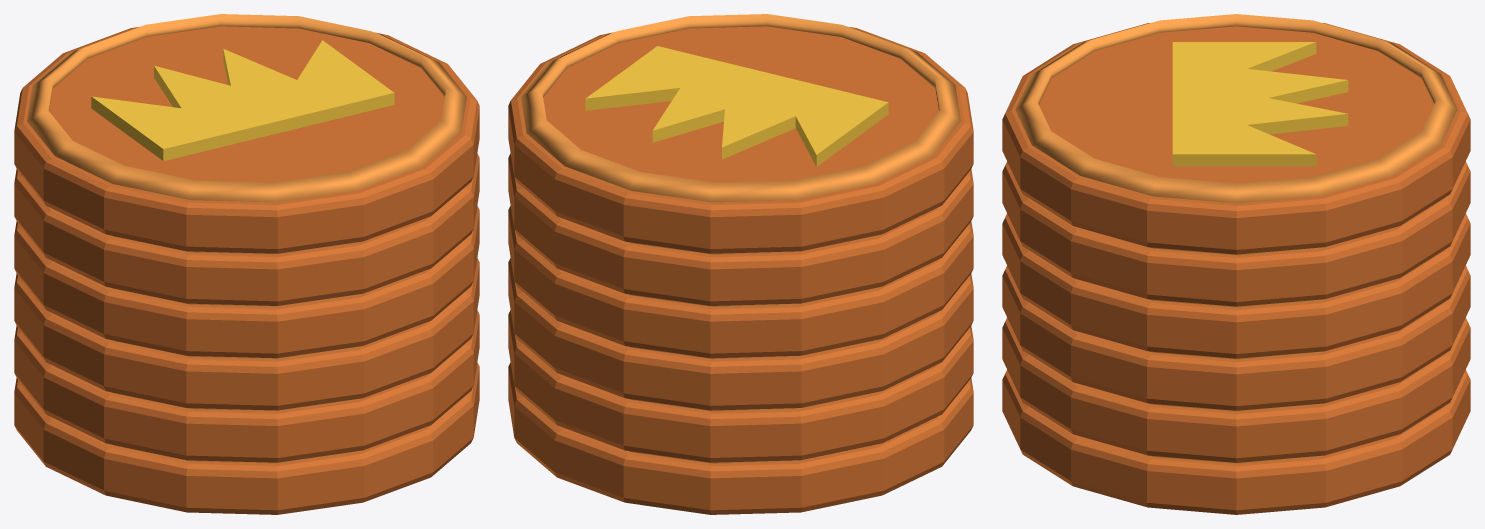
The model's file is CoinStack_06.fbx.
3 renders of one model, left to right at view 1: azimuth 30°, elevation 25°; view 2: azimuth 150°, elevation 25°; view 3: azimuth 270°, elevation 25°, orthographic.
Parts seen in each view (by area): view 1: Coin_Stack06_06_Core, Coin_Stack06_03_Core, Coin_Stack06_02_Core, Coin_Stack06_04_Core, Coin_Stack06_01_Core, Coin_Stack06_05_Core, Coin_Crown_Relief.002, Coin_Stack06_06_Rim; view 2: Coin_Stack06_06_Core, Coin_Stack06_03_Core, Coin_Stack06_02_Core, Coin_Stack06_04_Core, Coin_Stack06_01_Core, Coin_Stack06_05_Core, Coin_Crown_Relief.002, Coin_Stack06_06_Rim; view 3: Coin_Stack06_06_Core, Coin_Stack06_05_Core, Coin_Stack06_01_Core, Coin_Stack06_03_Core, Coin_Stack06_02_Core, Coin_Stack06_04_Core, Coin_Crown_Relief.002, Coin_Stack06_06_Rim.
Boxes of the visible parts, x1,y1,x2,y2 form: Coin_Stack06_06_Core: (14,26,479,253); Coin_Stack06_03_Core: (14,258,479,410); Coin_Stack06_02_Core: (14,310,479,462); Coin_Stack06_04_Core: (14,206,479,358); Coin_Stack06_01_Core: (14,362,479,514); Coin_Stack06_05_Core: (14,153,479,305); Coin_Crown_Relief.002: (91,40,394,161); Coin_Stack06_06_Rim: (27,14,466,202); Coin_Stack06_06_Core: (508,26,973,253); Coin_Stack06_03_Core: (508,258,973,410); Coin_Stack06_02_Core: (508,310,973,462); Coin_Stack06_04_Core: (508,206,973,358); Coin_Stack06_01_Core: (508,362,973,514); Coin_Stack06_05_Core: (508,153,973,305); Coin_Crown_Relief.002: (585,46,888,166); Coin_Stack06_06_Rim: (521,14,960,202); Coin_Stack06_06_Core: (1002,23,1470,254); Coin_Stack06_05_Core: (1002,161,1470,306); Coin_Stack06_01_Core: (1002,369,1470,514); Coin_Stack06_03_Core: (1002,265,1470,410); Coin_Stack06_02_Core: (1002,317,1470,462); Coin_Stack06_04_Core: (1002,213,1470,358); Coin_Crown_Relief.002: (1172,42,1348,166); Coin_Stack06_06_Rim: (1015,14,1457,203).
Bounding box in the file's own units: 0.88 × 0.667 × 0.88.
